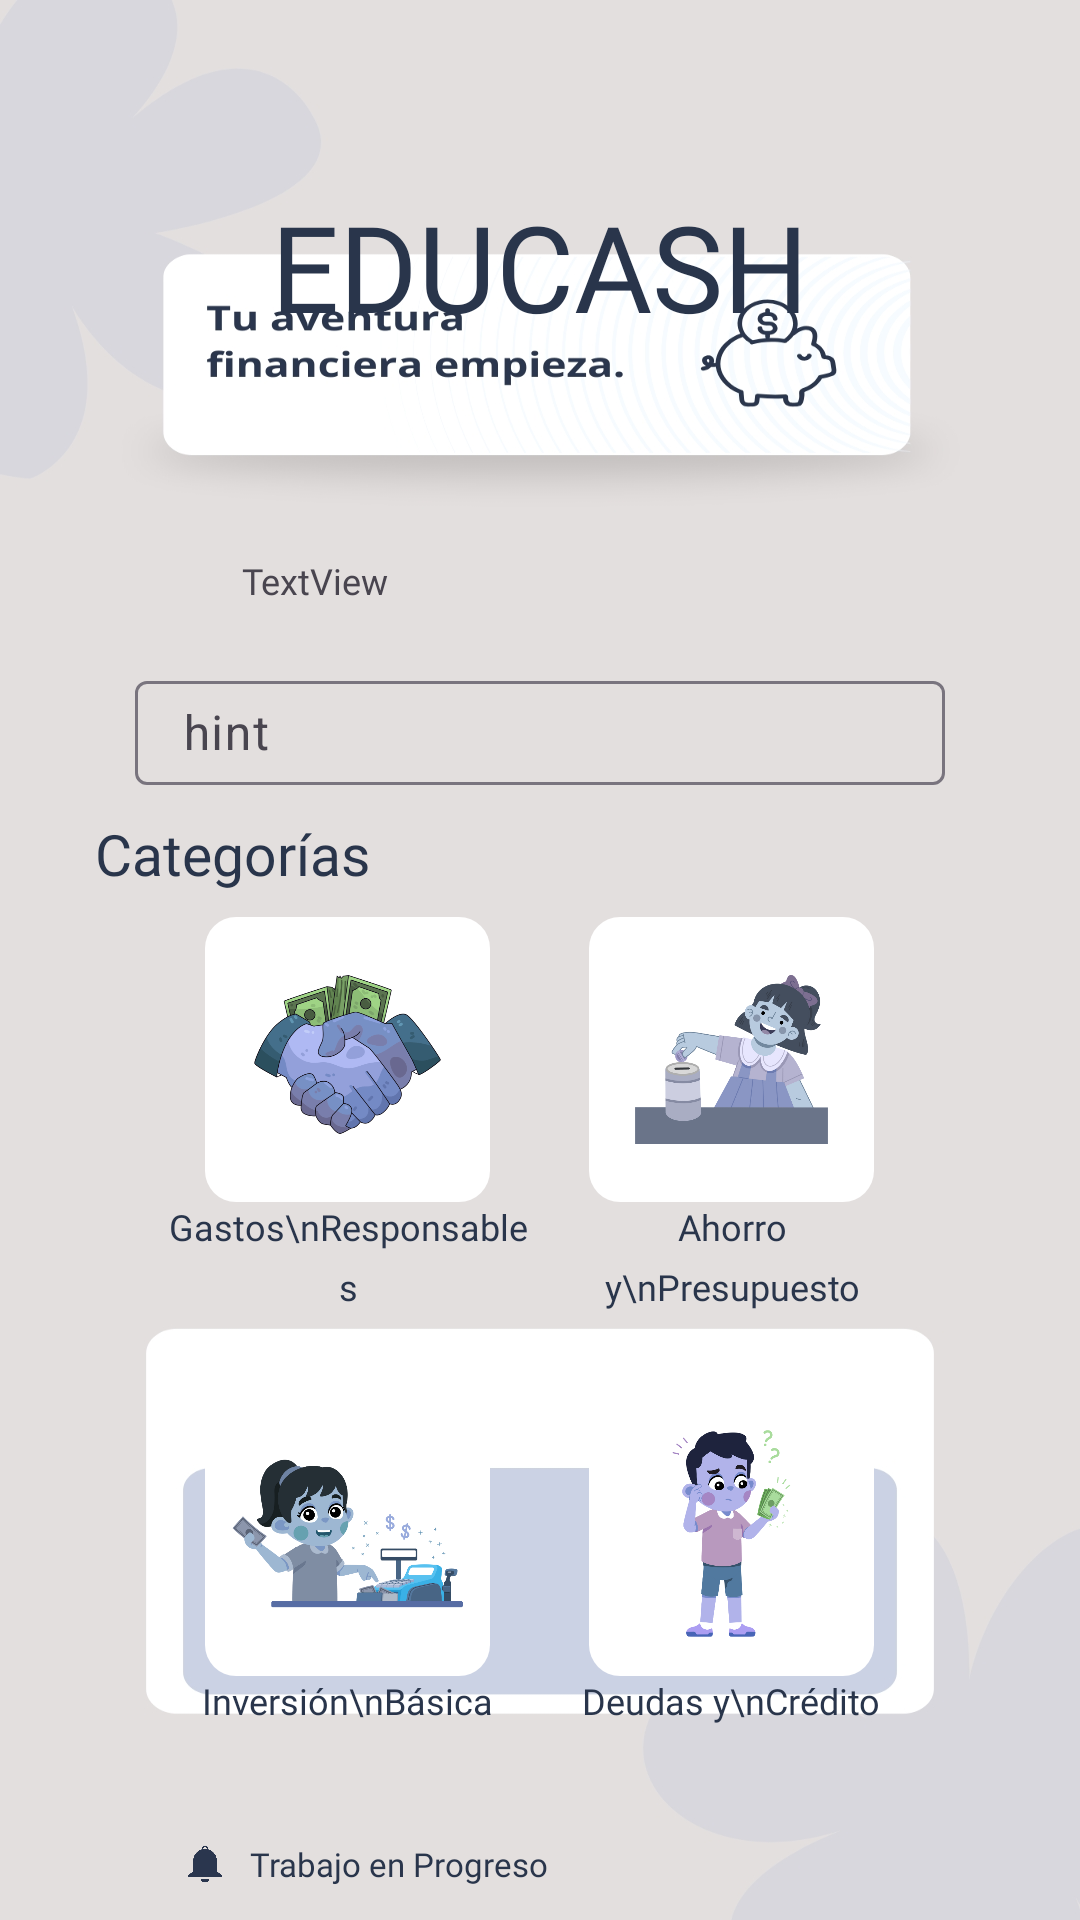

Locate icon controls on the screen. Image size 1080 × 1920, boxes as bbox(x1, y1, x2, y2).
campana: bbox(188, 1846, 222, 1882)
